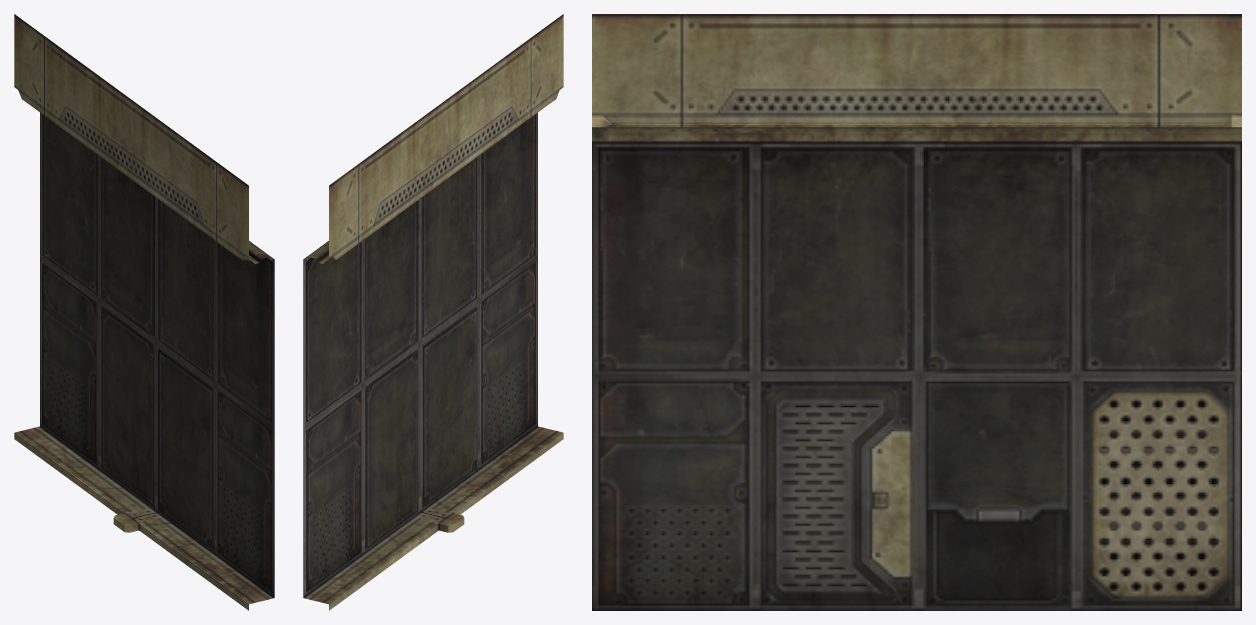
Rendered from pplant_ground_perforated.dae.
3 views of the same model, side by side, from view 1: azimuth 30°, elevation 25°; view 2: azimuth 150°, elevation 25°; view 3: azimuth 270°, elevation 25° (orthographic). The views are drawn at different scales.
Visible parts, largest first — view 1: ground_perforated; view 2: ground_perforated; view 3: ground_perforated.
Boxes of the visible parts, x1=… form: ground_perforated: x1=14, y1=14, x2=274, y2=610; ground_perforated: x1=303, y1=14, x2=563, y2=610; ground_perforated: x1=592, y1=14, x2=1241, y2=610.
Size of the model in its own units: 0.375 by 4 by 4.
